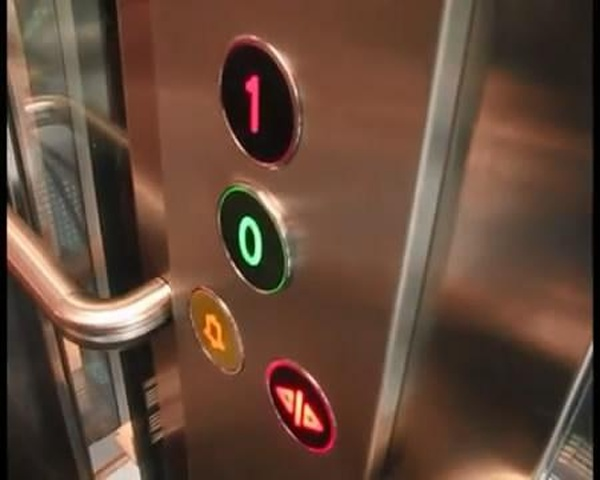0: (215, 182, 289, 295)
1: (216, 35, 303, 170)
alarm: (187, 286, 245, 377)
open: (264, 359, 337, 455)
